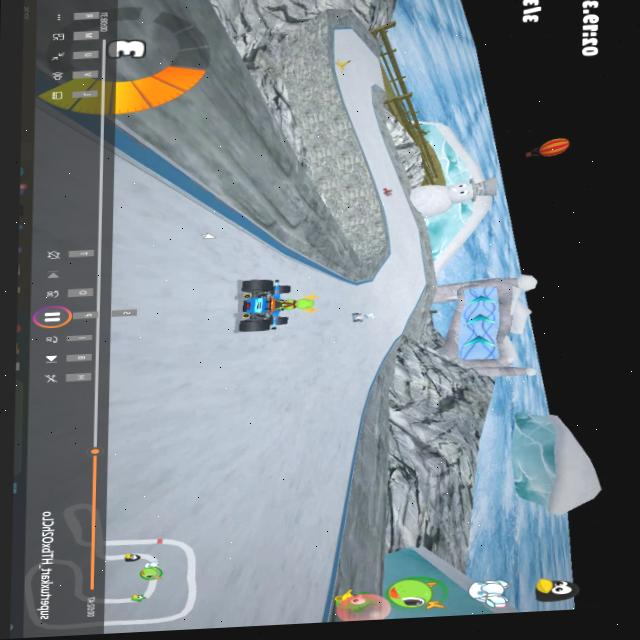enemy_kart: (346, 308, 372, 326), (379, 182, 394, 201)
obstacle: (332, 56, 357, 75)
player_kart: (226, 277, 312, 335)
track: (102, 331, 322, 632), (110, 207, 223, 342), (313, 275, 342, 574), (219, 241, 302, 282), (338, 327, 361, 449), (109, 167, 164, 212), (341, 77, 378, 124), (381, 266, 416, 312), (359, 123, 383, 163), (360, 327, 377, 380), (387, 202, 410, 238), (376, 313, 399, 345), (392, 239, 417, 266), (366, 50, 384, 87), (369, 161, 397, 183), (333, 29, 356, 55), (345, 284, 369, 305), (359, 46, 368, 53)
